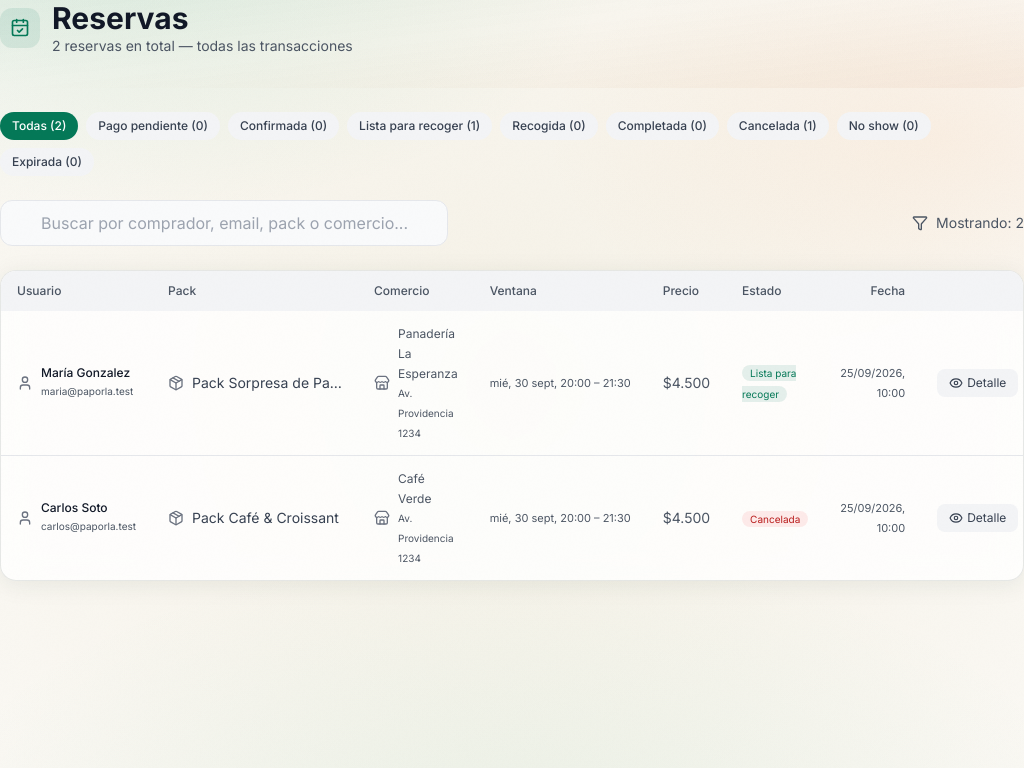
Scenario: AdminReservationsPage (ADMIN-1) › los chips de estado filtran y cuentan
Expected: the button "Todas (2)" is shown, x1=0 y1=112 x2=78 y2=140
Step 1. Click the button "Cancelada (1)" → coordinates (778, 126), box x1=727 y1=112 x2=829 y2=140
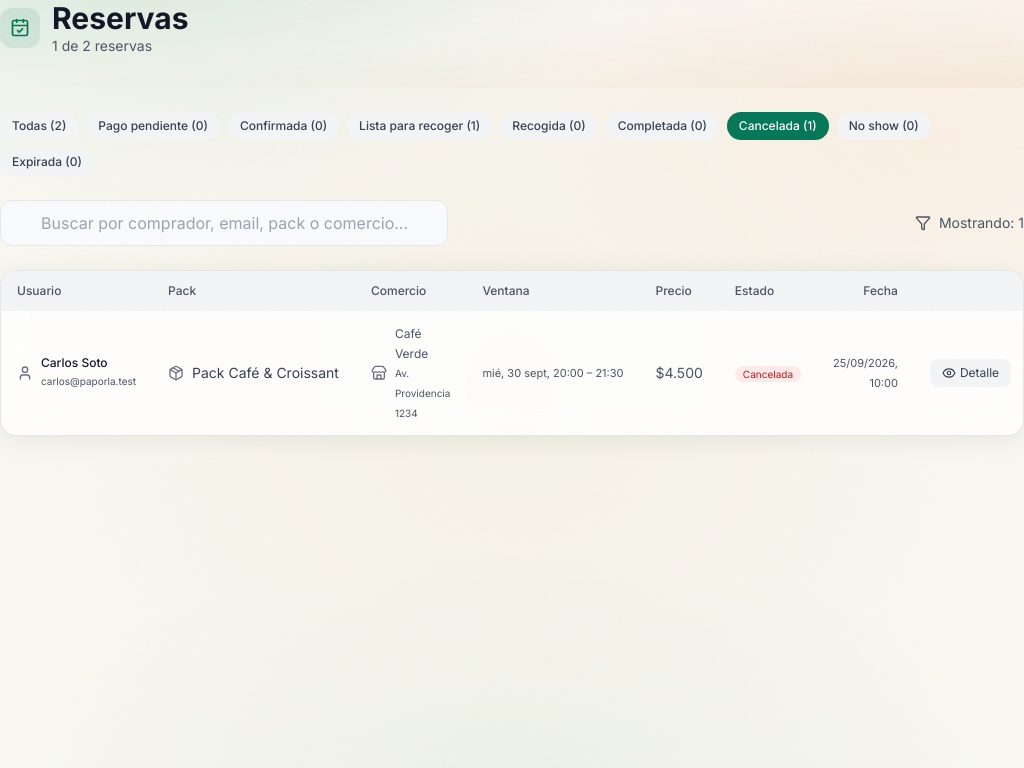
Expected: the text "Carlos Soto" is shown, x1=41 y1=355 x2=108 y2=370
Expected: the text "1 de 2 reservas" is shown, x1=52 y1=37 x2=152 y2=54
Expected: the text "María Gonzalez" is gone
